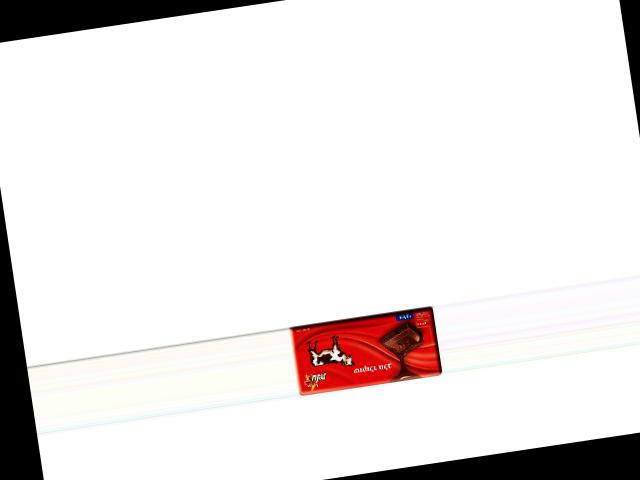chocolate: (288, 306, 443, 396)
